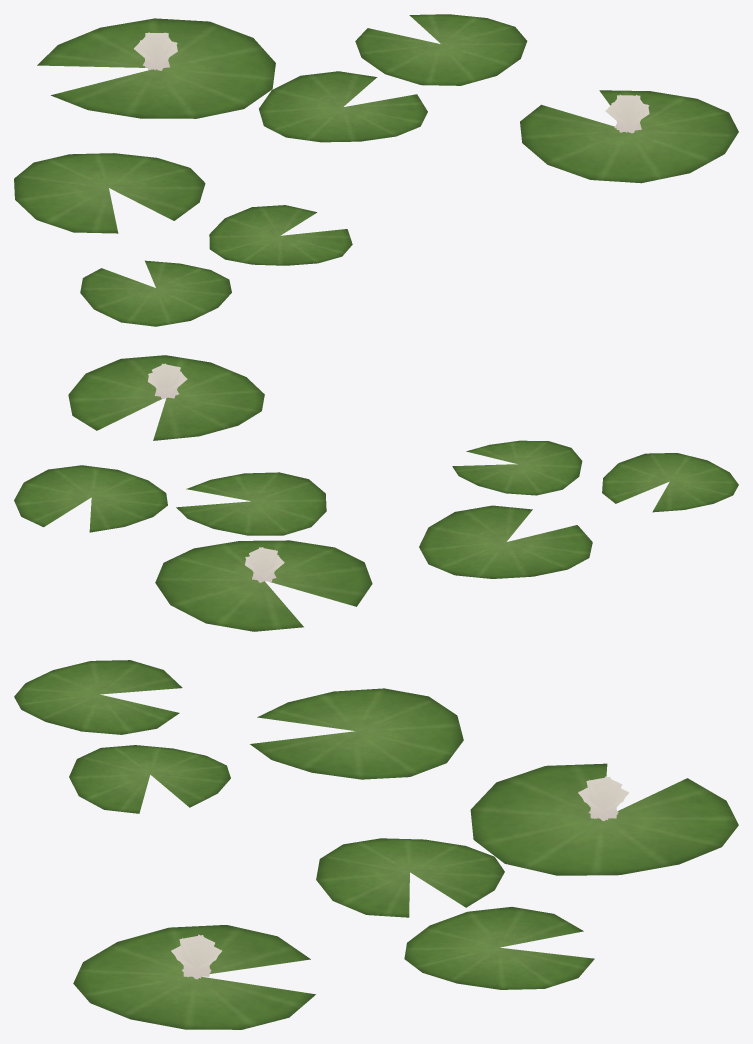
Rendered from lily_pads.glb.
The picture shows the model from 3 angles, top to bottom: view 1: azimuth 30°, elevation 25°; view 2: azimuth 150°, elevation 25°; view 3: azimuth 270°, elevation 25°; orthographic projection. The views are drawn at different scales.
Parts seen in each view (by area): view 1: lily_pads; view 2: lily_pads; view 3: lily_pads.
Boxes of the visible parts, x1,y1,x2,y2 form: lily_pads: (14, 14, 738, 326); lily_pads: (14, 355, 738, 631); lily_pads: (14, 660, 738, 1029).
Size of the model in its own units: 2.03 by 0.1039 by 1.68.
1 material, 1 textured.
